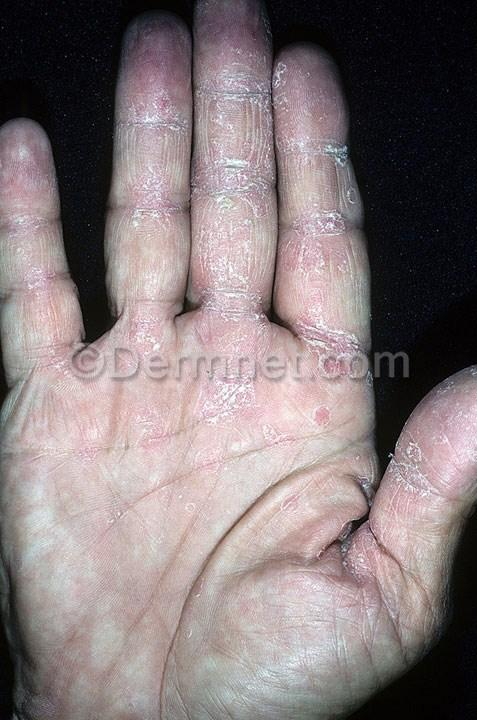Eczema: (195, 134, 275, 240), (283, 195, 362, 268), (204, 254, 263, 348), (121, 158, 178, 241), (125, 74, 188, 143), (109, 398, 183, 451), (5, 213, 63, 280), (394, 437, 447, 506), (203, 57, 274, 108), (282, 134, 360, 175), (5, 131, 50, 201), (298, 298, 359, 345), (59, 418, 117, 463), (127, 23, 191, 63), (122, 297, 170, 350), (212, 382, 264, 428), (188, 437, 237, 477), (440, 377, 477, 417), (270, 487, 313, 521), (309, 400, 338, 434)
